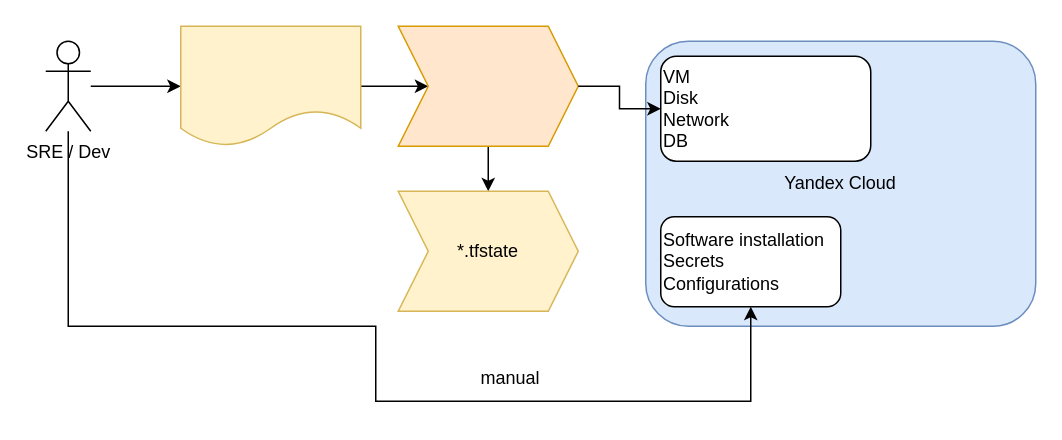
Image size: 1062x440. Some labels were removed from this diagram. The shapes that lost their labels are listed below. From the top down, each one's centre as x and y in pixels, then its label:
At pixel 270 85: "Terraform configuration files".
At pixel 487 85: "Terraform Core".
